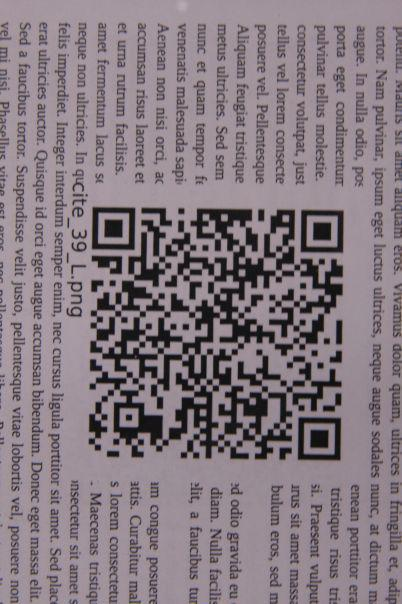Finder pattern: (84, 201, 142, 257), (297, 203, 351, 259), (293, 411, 347, 466)
